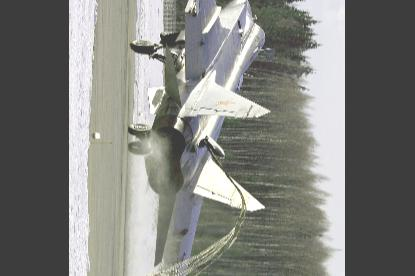Mig31: (129, 0, 277, 275)
